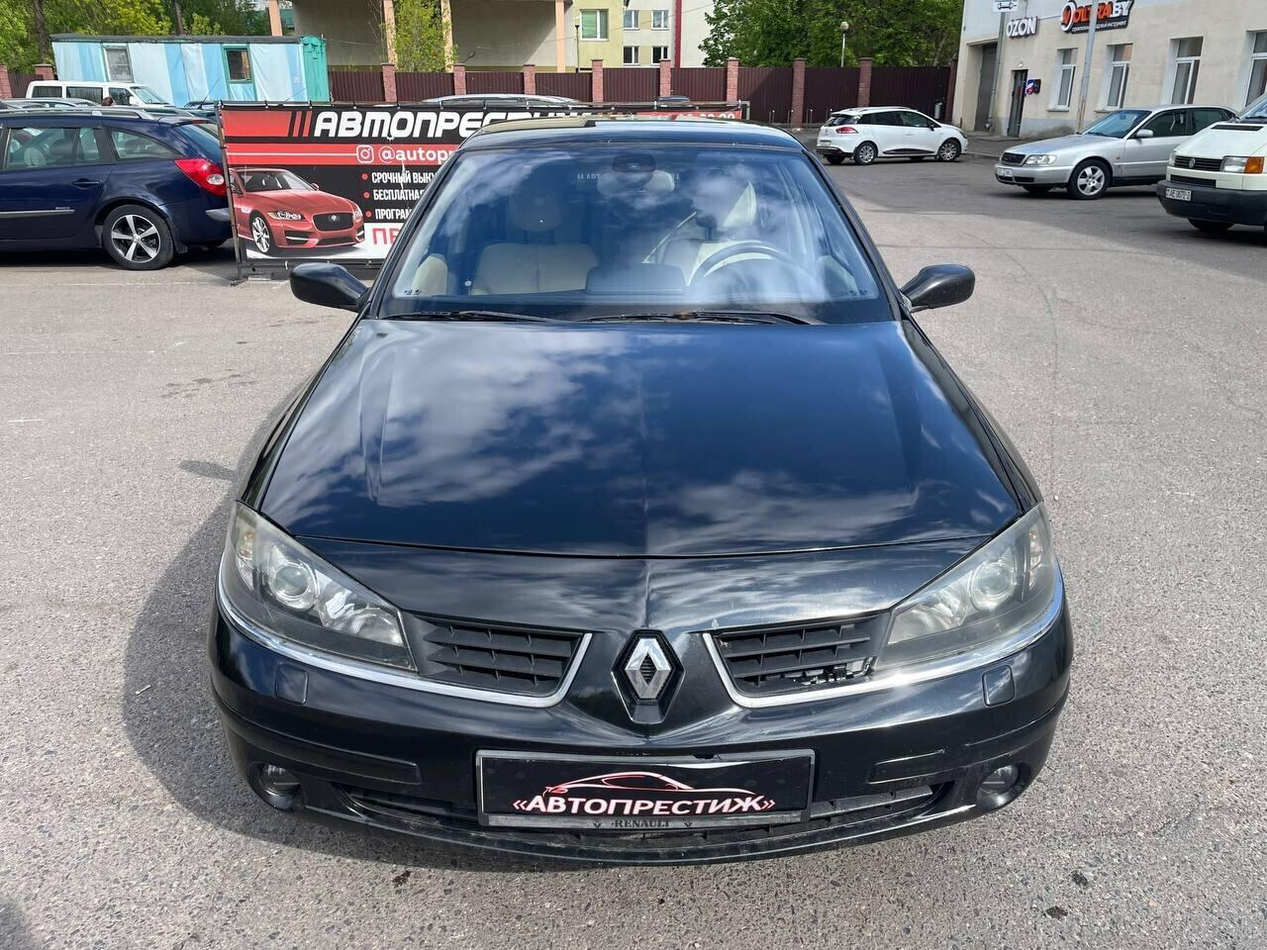Laguna_2005-2007: (209, 111, 1079, 856)
